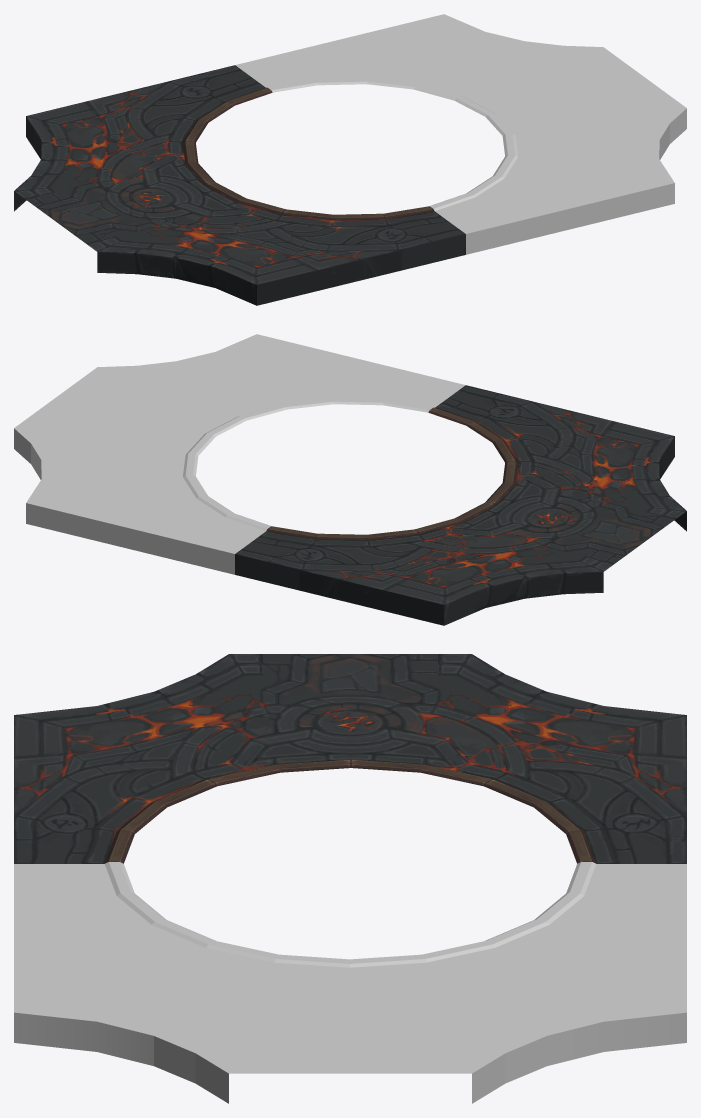
The model's file is sn_pvp_dibiao_001.FBX.
The picture shows the model from 3 angles, top to bottom: view 1: azimuth 30°, elevation 25°; view 2: azimuth 150°, elevation 25°; view 3: azimuth 270°, elevation 25°; orthographic projection. The views are drawn at different scales.
Visible parts, largest first — view 1: sn_pvp_dibiao_001; view 2: sn_pvp_dibiao_001; view 3: sn_pvp_dibiao_001.
Part boxes in pixels (x1=…): sn_pvp_dibiao_001: x1=14, y1=14, x2=686, y2=305; sn_pvp_dibiao_001: x1=14, y1=334, x2=686, y2=625; sn_pvp_dibiao_001: x1=14, y1=654, x2=686, y2=1103.
Size of the model in its own units: 1.13 by 0.0407 by 0.767.
